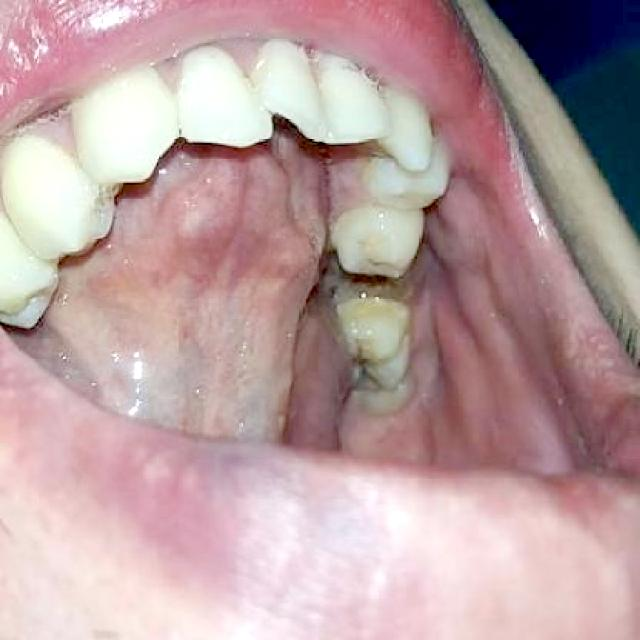Plaque: (352, 333, 386, 388)
